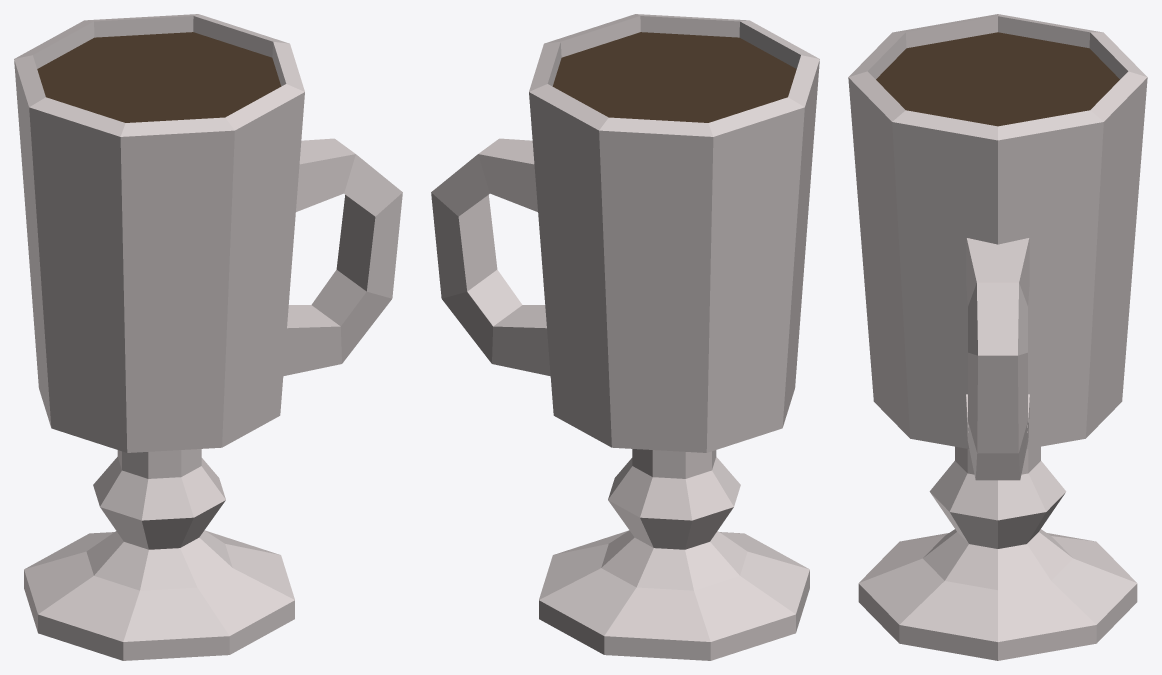
File: drinks-glass-black-coffee.glb
3 views of the same model, side by side, from view 1: azimuth 30°, elevation 25°; view 2: azimuth 150°, elevation 25°; view 3: azimuth 270°, elevation 25° (orthographic).
Parts seen in each view (by area): view 1: glass-black-coffee; view 2: glass-black-coffee; view 3: glass-black-coffee.
Boxes of the visible parts, x1,y1,x2,y2 form: glass-black-coffee: (14,14,402,660); glass-black-coffee: (431,14,819,660); glass-black-coffee: (848,14,1147,660).
Size of the model in its own units: 0.1056 by 0.1482 by 0.0758.
